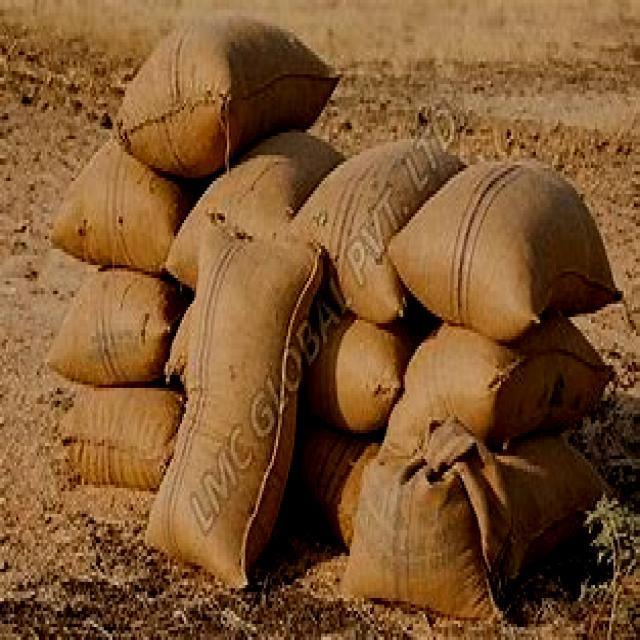gunny_bag: (141, 212, 324, 598), (392, 155, 623, 339), (115, 13, 339, 186), (425, 420, 607, 600), (292, 136, 464, 325), (386, 314, 613, 454), (166, 129, 344, 286), (345, 462, 497, 621), (51, 139, 202, 273), (301, 301, 436, 433), (47, 272, 190, 386), (59, 388, 184, 490)
